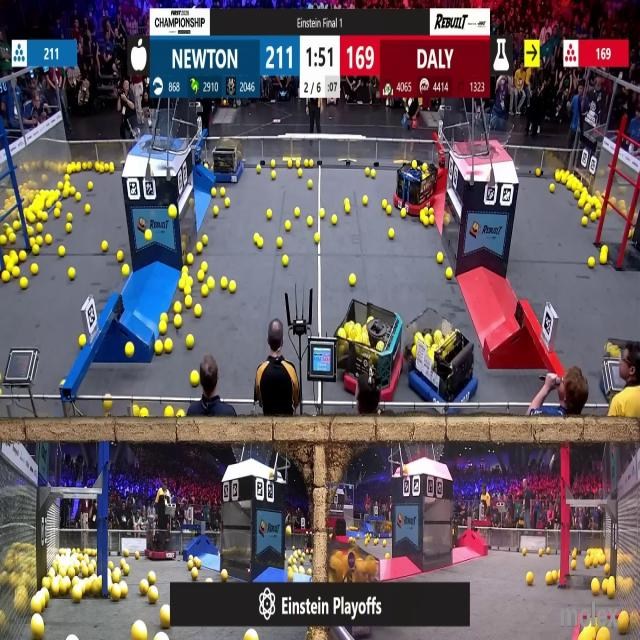ball_airborne: (170, 205, 178, 218)
ball_ground: (592, 580, 600, 596), (190, 372, 198, 387), (165, 340, 173, 354), (174, 315, 182, 327), (121, 266, 129, 278), (600, 251, 607, 264), (194, 305, 201, 318), (174, 303, 182, 314), (21, 278, 29, 289), (104, 398, 112, 409), (166, 408, 174, 418), (527, 571, 533, 584), (446, 269, 453, 280), (202, 285, 209, 296), (177, 410, 185, 419), (32, 246, 40, 255), (208, 277, 214, 289), (31, 266, 38, 276), (187, 253, 193, 264), (256, 239, 263, 248), (60, 246, 66, 256), (66, 222, 72, 232), (19, 251, 25, 261), (283, 255, 288, 266), (315, 233, 320, 244), (293, 208, 299, 217), (308, 216, 314, 225), (62, 189, 68, 198), (268, 209, 273, 219), (400, 209, 405, 218), (331, 215, 336, 224), (296, 170, 302, 177), (89, 182, 94, 190), (101, 240, 106, 248), (224, 200, 229, 208), (388, 207, 392, 216), (320, 209, 324, 218), (536, 169, 540, 178), (363, 197, 367, 206), (68, 212, 72, 220), (256, 166, 260, 174), (309, 180, 313, 188), (386, 553, 390, 560)
goal: (460, 117, 515, 158), (128, 117, 186, 152)
robot_blue: (404, 300, 481, 415), (212, 136, 246, 184), (368, 520, 393, 539)
robot_red: (336, 302, 398, 401), (396, 161, 438, 212), (146, 530, 177, 560)
